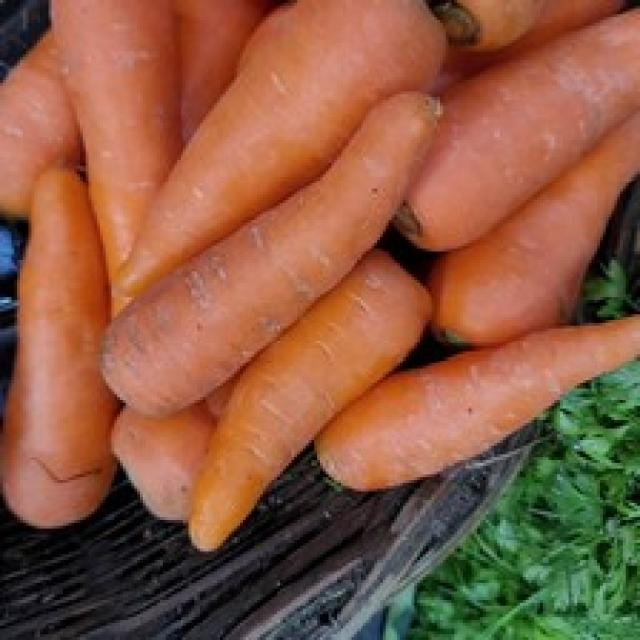Fresh_Carrot: (57, 68, 451, 416), (94, 0, 454, 286), (377, 2, 640, 258)
